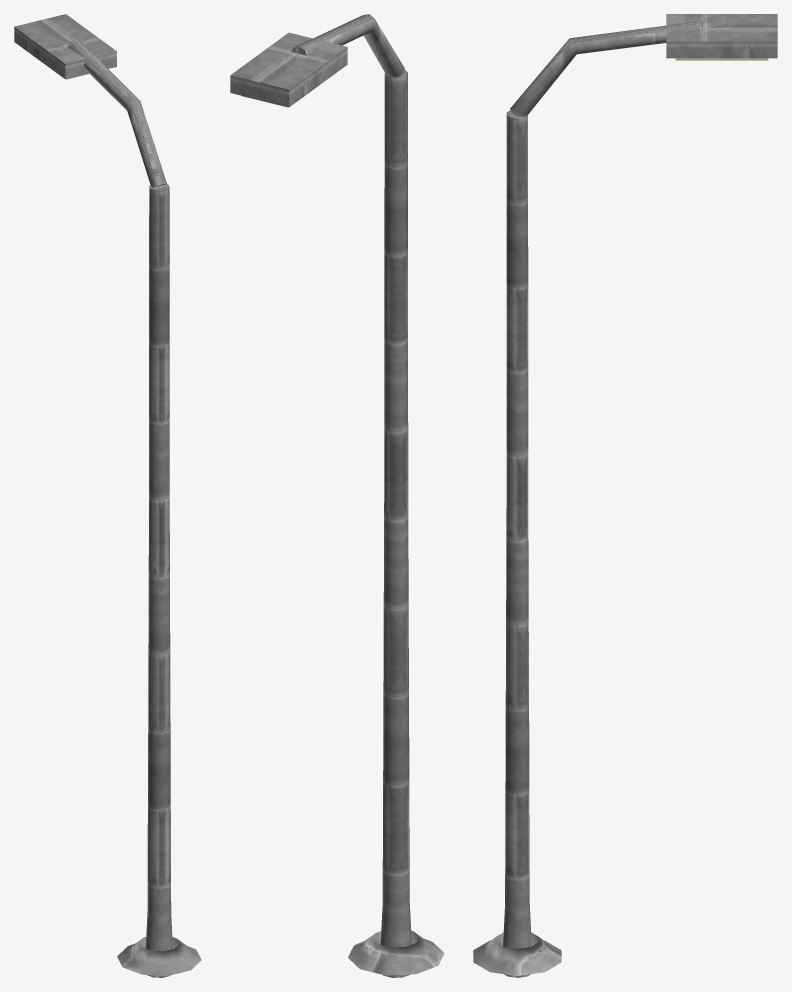
File: lamp.obj
The picture shows the model from 3 angles, left to right: view 1: azimuth 30°, elevation 25°; view 2: azimuth 150°, elevation 25°; view 3: azimuth 270°, elevation 25°; orthographic projection. The views are drawn at different scales.
Bounding box in the file's own units: 0.5 × 5.64 × 1.64.
Materials: 2 (1 with a texture image).
